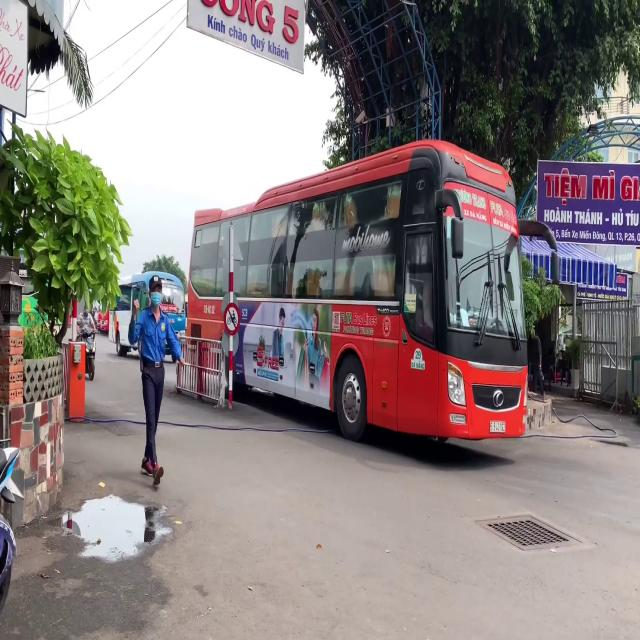bien_trang: (489, 419, 506, 434)
